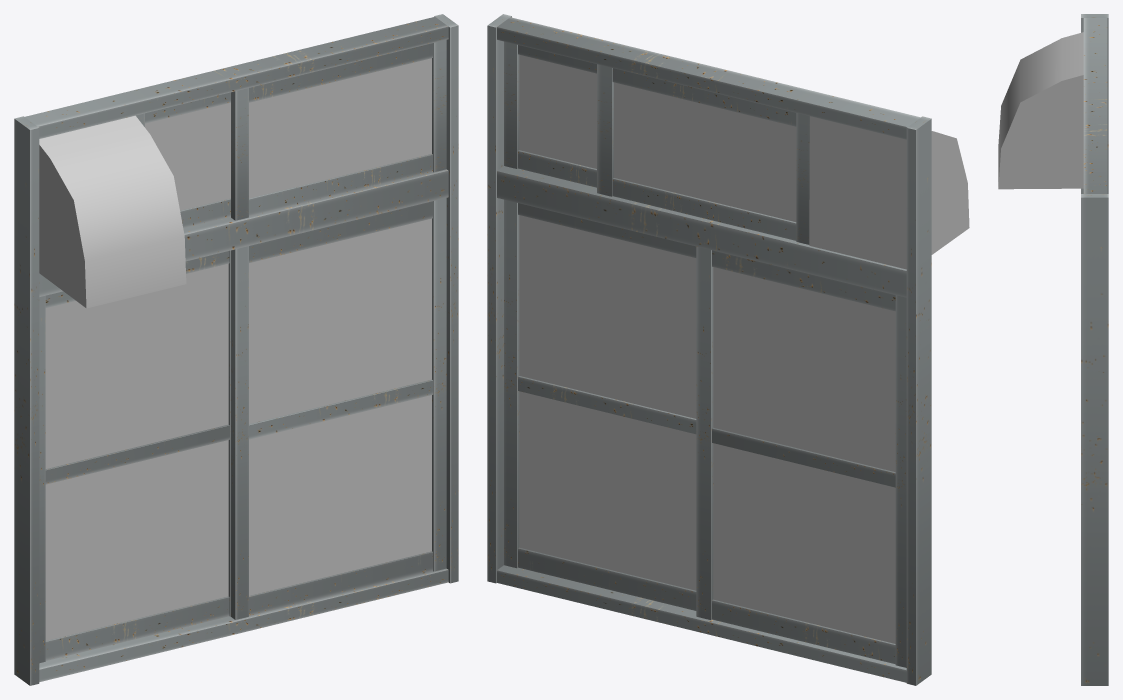
Rendered from bil_window_b3_3.fbx.
3 views of the same model, side by side, from view 1: azimuth 30°, elevation 25°; view 2: azimuth 150°, elevation 25°; view 3: azimuth 270°, elevation 25° (orthographic). The views are drawn at different scales.
Parts seen in each view (by area): view 1: bil_window_b3_3; view 2: bil_window_b3_3; view 3: bil_window_b3_3.
Part boxes in pixels (<box>): bil_window_b3_3: <box>14,14,458,685</box>; bil_window_b3_3: <box>487,14,969,685</box>; bil_window_b3_3: <box>998,14,1108,685</box>.
Size of the model in its own units: 183 by 227 by 46.55.
